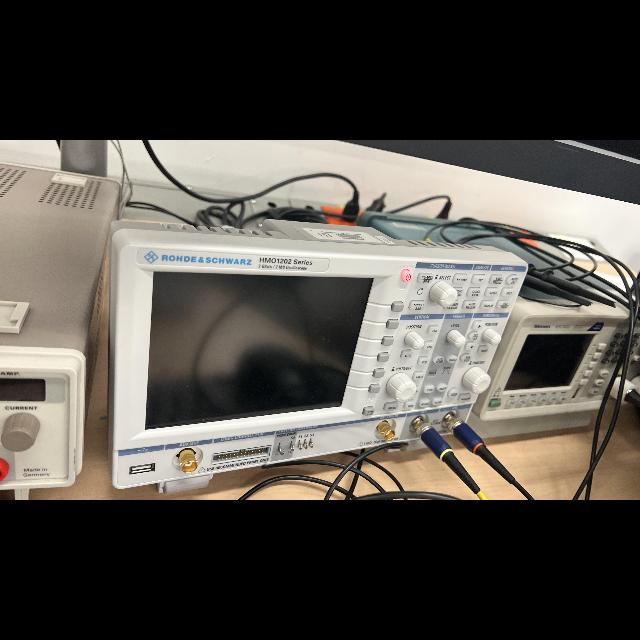Digital-Oscilloscope: (109, 220, 526, 491)
